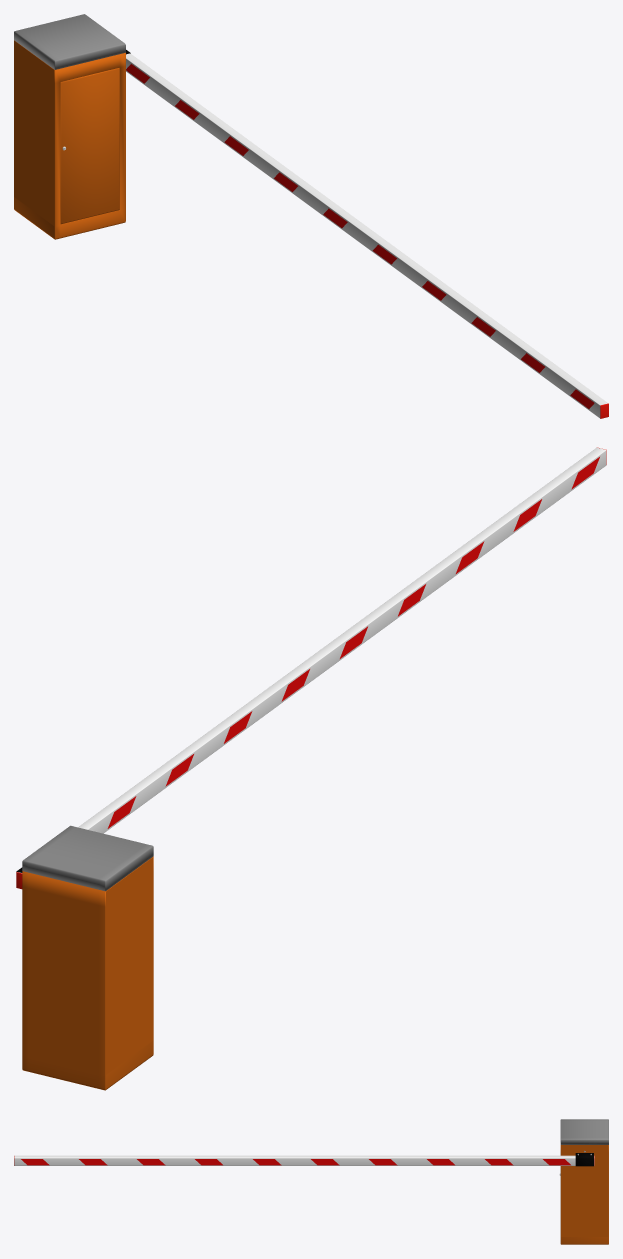
Rendered from PlankParkir.fbx.
The picture shows the model from 3 angles, top to bottom: view 1: azimuth 30°, elevation 25°; view 2: azimuth 150°, elevation 25°; view 3: azimuth 270°, elevation 25°; orthographic projection. The views are drawn at different scales.
Visible parts, largest first — view 1: Post, Beam, Safety stickers; view 2: Post, Beam, Safety stickers; view 3: Post, Beam, Safety stickers, Beam bracket.
Boxes of the visible parts, bbox=[...] form: Post: bbox=[14, 14, 125, 239]; Beam: bbox=[126, 53, 608, 418]; Safety stickers: bbox=[126, 64, 594, 408]; Post: bbox=[22, 825, 153, 1090]; Beam: bbox=[17, 447, 606, 873]; Safety stickers: bbox=[107, 457, 599, 828]; Post: bbox=[560, 1119, 608, 1244]; Beam: bbox=[14, 1155, 594, 1165]; Safety stickers: bbox=[21, 1159, 570, 1165]; Beam bracket: bbox=[575, 1153, 593, 1166].
Size of the model in its own units: 62.35 by 120 by 616.
